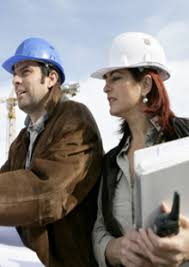casque: (2, 29, 184, 153)
